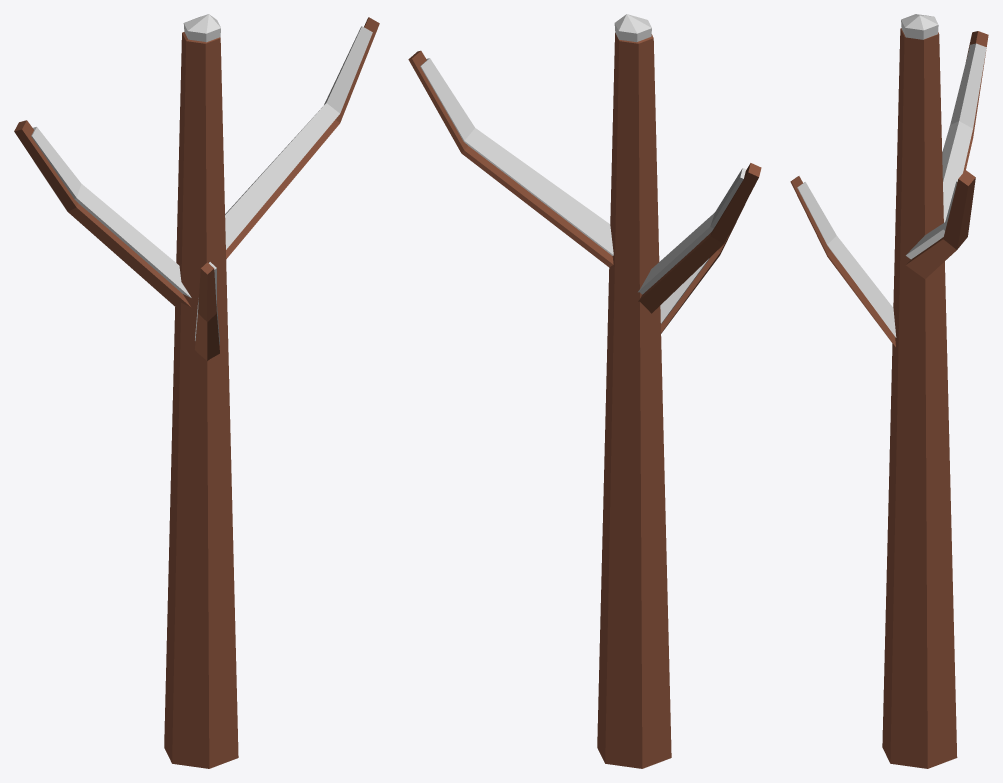
File: Tree_35_winter_mat.fbx
The picture shows the model from 3 angles, left to right: view 1: azimuth 30°, elevation 25°; view 2: azimuth 150°, elevation 25°; view 3: azimuth 270°, elevation 25°; orthographic projection.
Visible parts, largest first — view 1: Tree_35_winter_mat; view 2: Tree_35_winter_mat; view 3: Tree_35_winter_mat.
Part boxes in pixels (x1,y1,x2,y2): Tree_35_winter_mat: (14,14,379,768); Tree_35_winter_mat: (408,14,761,768); Tree_35_winter_mat: (790,14,988,768).
Size of the model in its own units: 10.55 by 20.76 by 5.03.
